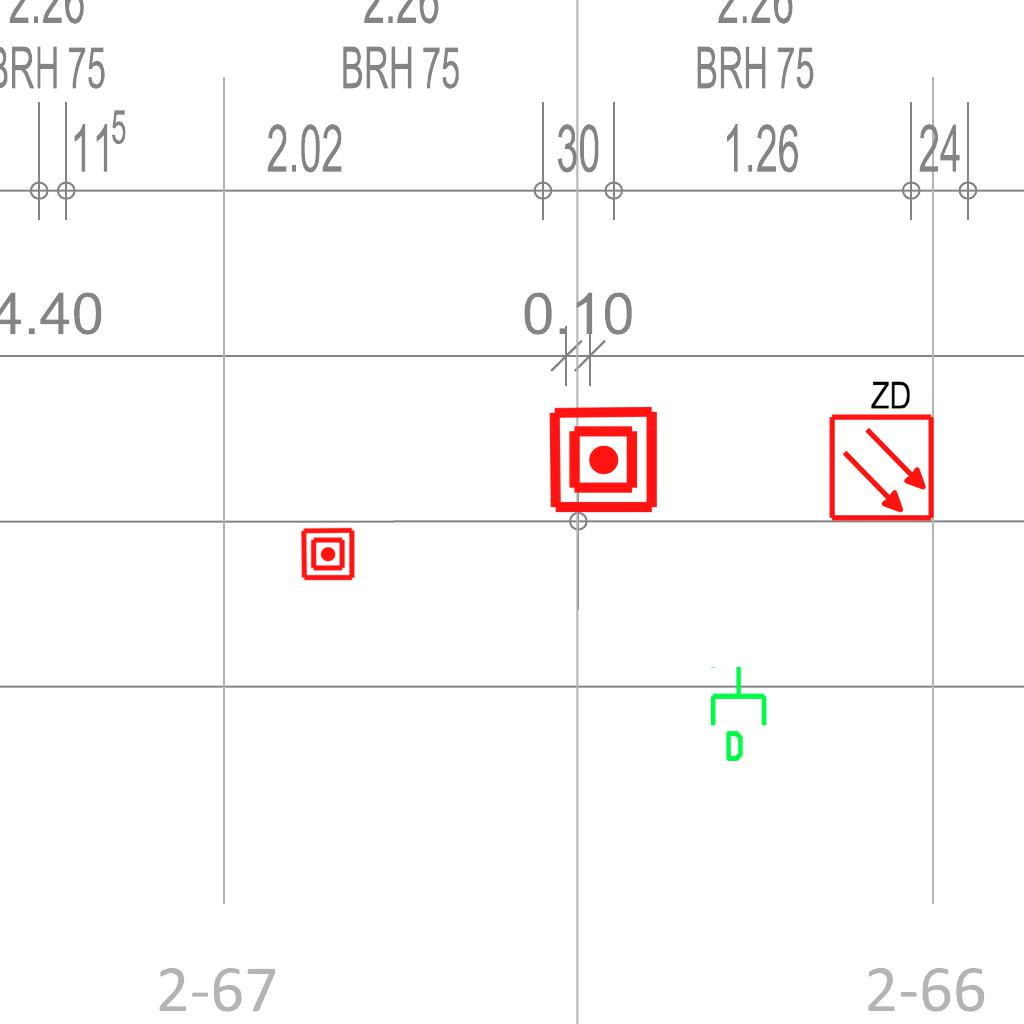Datenanschluss_einfach: (706, 664, 775, 764)
NAM-Nichtautomatischer_Melder: (547, 403, 660, 516), (300, 526, 356, 582)
ZD_Melder_in_Zwischendecke_mit_Revisionsoeffnung_mind_40_x_40_cm: (823, 374, 937, 523)
